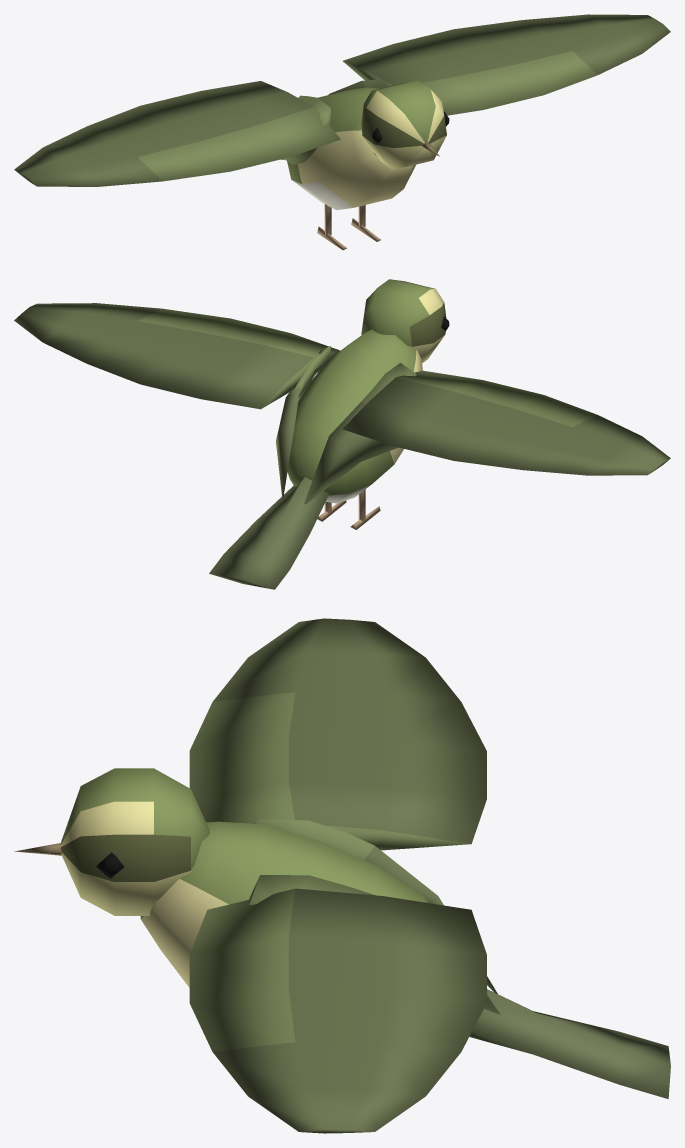
Rendered from warbler.glb.
3 renders of one model, top to bottom at view 1: azimuth 30°, elevation 25°; view 2: azimuth 150°, elevation 25°; view 3: azimuth 270°, elevation 25°, orthographic. The views are drawn at different scales.
Parts seen in each view (by area): view 1: wing.R, wing.L, body, head; view 2: wing.R, wing.L, body, tail, head; view 3: wing.L, wing.R, body, head, tail.
Part boxes in pixels (x1,y1,x2,y2): wing.R: (14, 81, 340, 186); wing.L: (343, 14, 670, 115); body: (284, 79, 415, 250); head: (361, 80, 449, 169); wing.R: (342, 370, 670, 475); wing.L: (14, 303, 340, 409); body: (276, 329, 422, 529); tail: (209, 477, 328, 589); head: (361, 279, 449, 362); wing.L: (189, 888, 486, 1133); wing.R: (189, 618, 486, 850); body: (140, 819, 500, 1014); head: (14, 768, 209, 915); tail: (469, 989, 670, 1098).
Bounding box in the file's own units: 0.19 × 0.0537 × 0.1034.
